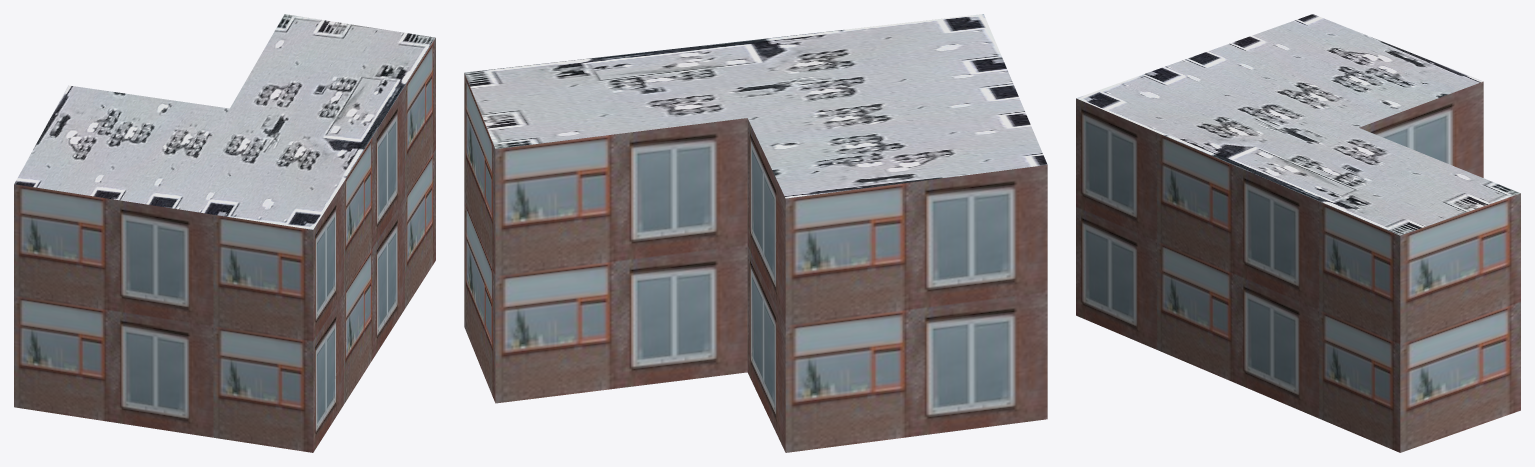
Rendered from ResTex__1524.fbx.
The picture shows the model from 3 angles, left to right: view 1: azimuth 30°, elevation 25°; view 2: azimuth 150°, elevation 25°; view 3: azimuth 270°, elevation 25°; orthographic projection. The views are drawn at different scales.
Visible parts, largest first — view 1: CityEngineMaterial_19_m, CityEngineMaterial_15_m; view 2: CityEngineMaterial_19_m, CityEngineMaterial_15_m; view 3: CityEngineMaterial_19_m, CityEngineMaterial_15_m.
Boxes of the visible parts, left/top/right/bottom form: CityEngineMaterial_19_m: left=14, top=38, right=435, bottom=452; CityEngineMaterial_15_m: left=14, top=14, right=435, bottom=229; CityEngineMaterial_19_m: left=464, top=73, right=1047, bottom=452; CityEngineMaterial_15_m: left=464, top=14, right=1047, bottom=198; CityEngineMaterial_19_m: left=1076, top=81, right=1520, bottom=452; CityEngineMaterial_15_m: left=1076, top=14, right=1520, bottom=235.
Bounding box in the file's own units: 13.13 × 6 × 11.14.
Materials: 2 (2 with a texture image).
